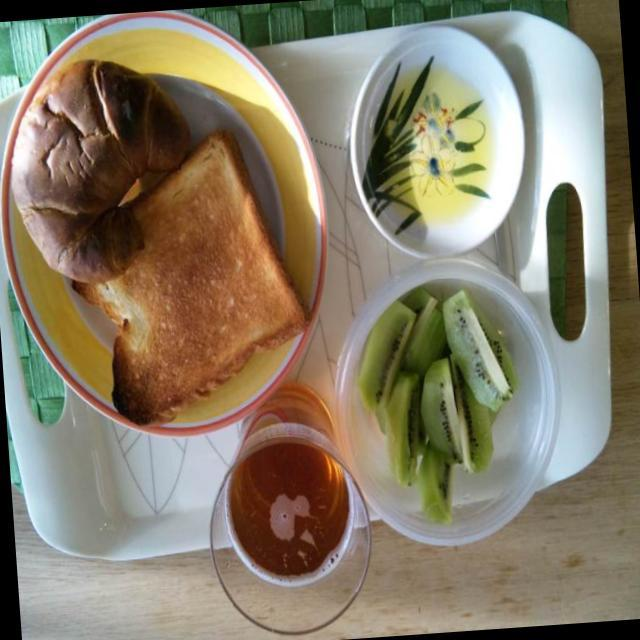Croissant: (0, 37, 208, 285)
